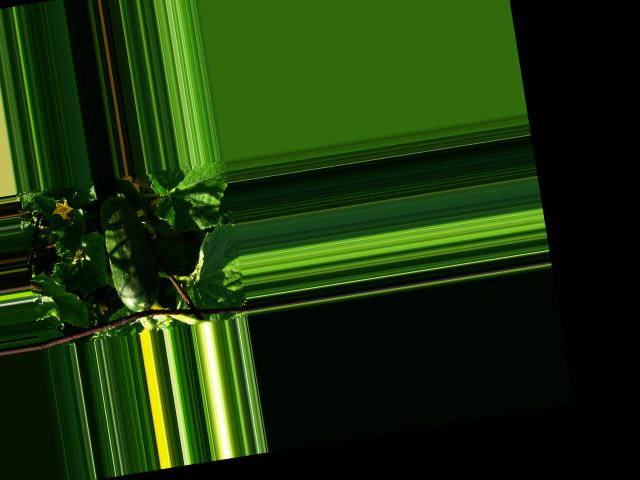cucumber: (97, 190, 165, 314)
